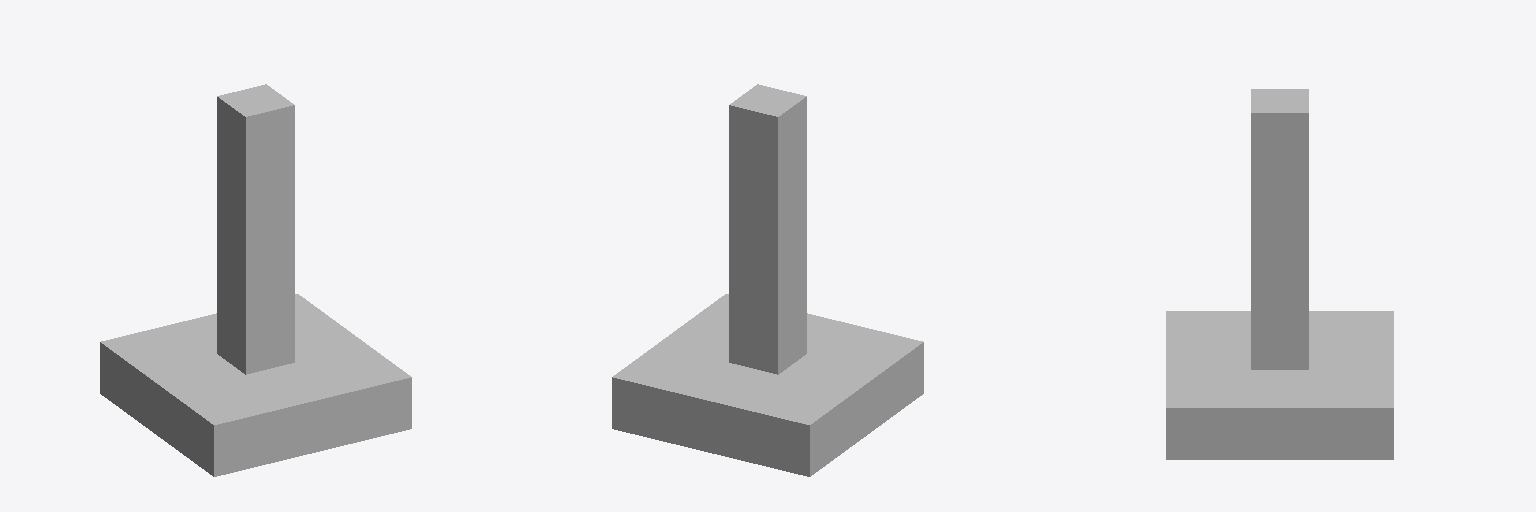
File: press_piston.obj
The picture shows the model from 3 angles: view 1: azimuth 30°, elevation 25°; view 2: azimuth 150°, elevation 25°; view 3: azimuth 270°, elevation 25°; orthographic projection.
Parts seen in each view (by area): view 1: cube; view 2: cube; view 3: cube.
Boxes of the visible parts, x1=… form: cube: x1=100, y1=84, x2=411, y2=476; cube: x1=612, y1=84, x2=923, y2=476; cube: x1=1166, y1=89, x2=1393, y2=459.
Bounding box in the file's own units: 1 × 1.5 × 1.